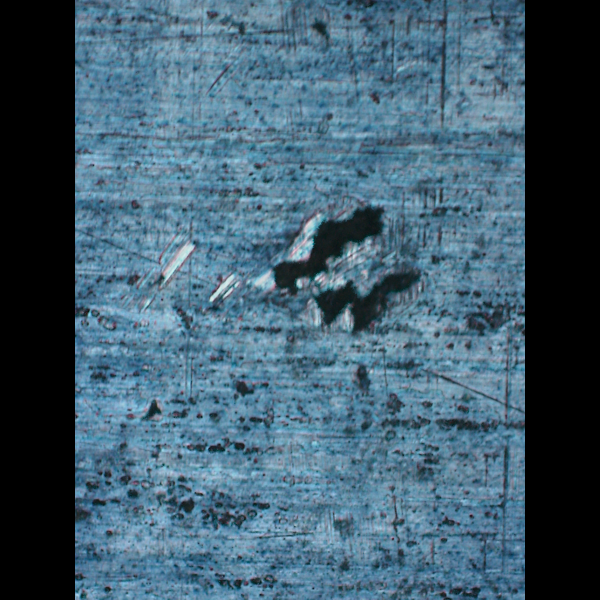d: (191, 196, 418, 348)
